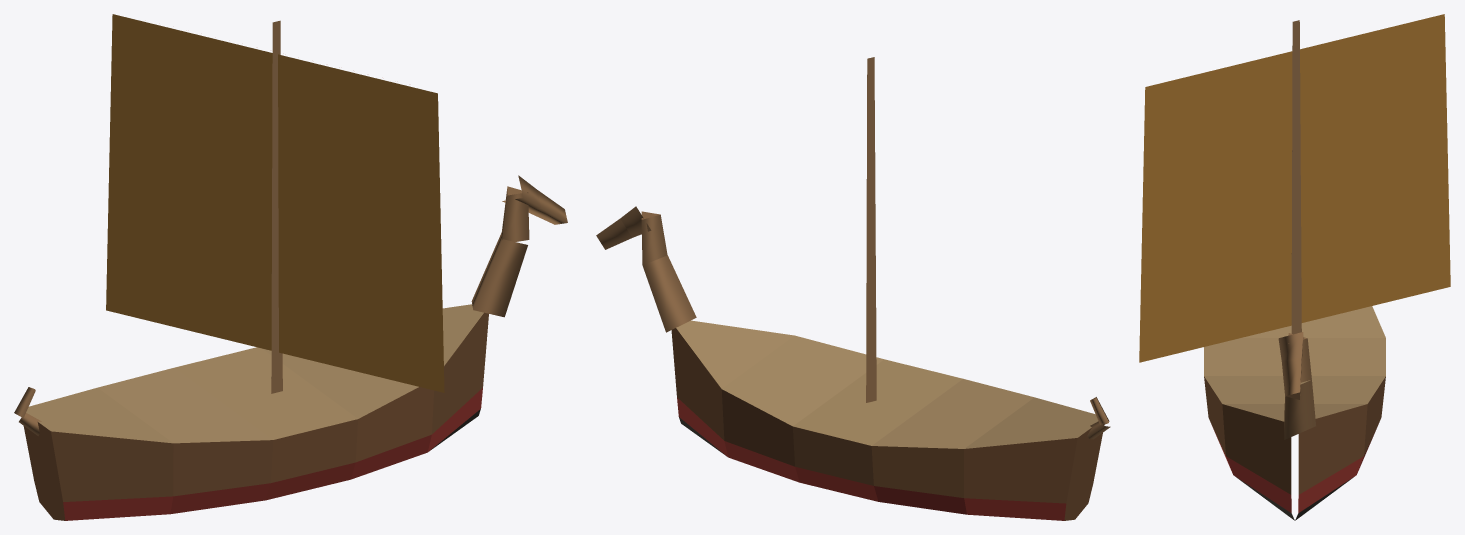
Rendered from hull_fiat_hippos_medium_lod.glb.
3 renders of one model, left to right at view 1: azimuth 30°, elevation 25°; view 2: azimuth 150°, elevation 25°; view 3: azimuth 270°, elevation 25°, orthographic. The views are drawn at different scales.
Parts seen in each view (by area): view 1: lod; view 2: lod; view 3: lod.
Part boxes in pixels (left/top/right/bottom): lod: left=14, top=14, right=567, bottom=520; lod: left=596, top=57, right=1110, bottom=520; lod: left=1139, top=14, right=1450, bottom=520.
Size of the model in its own units: 15.87 by 12.81 by 8.43.
